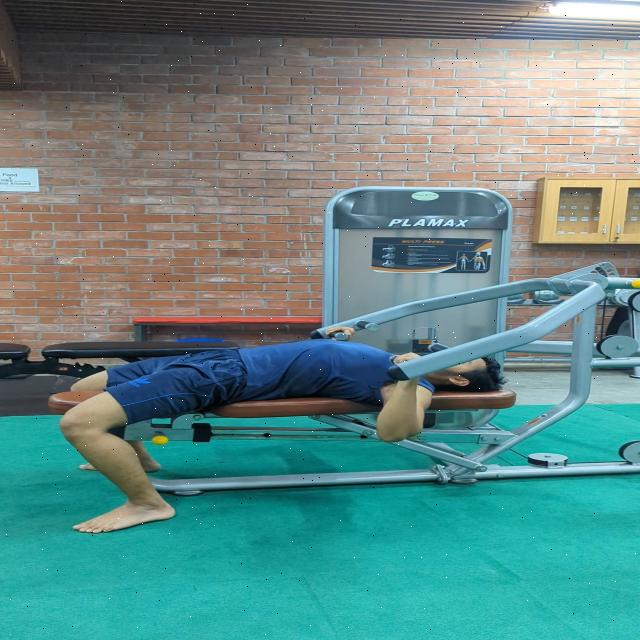Normal_BrenchPress: (48, 268, 610, 562)
